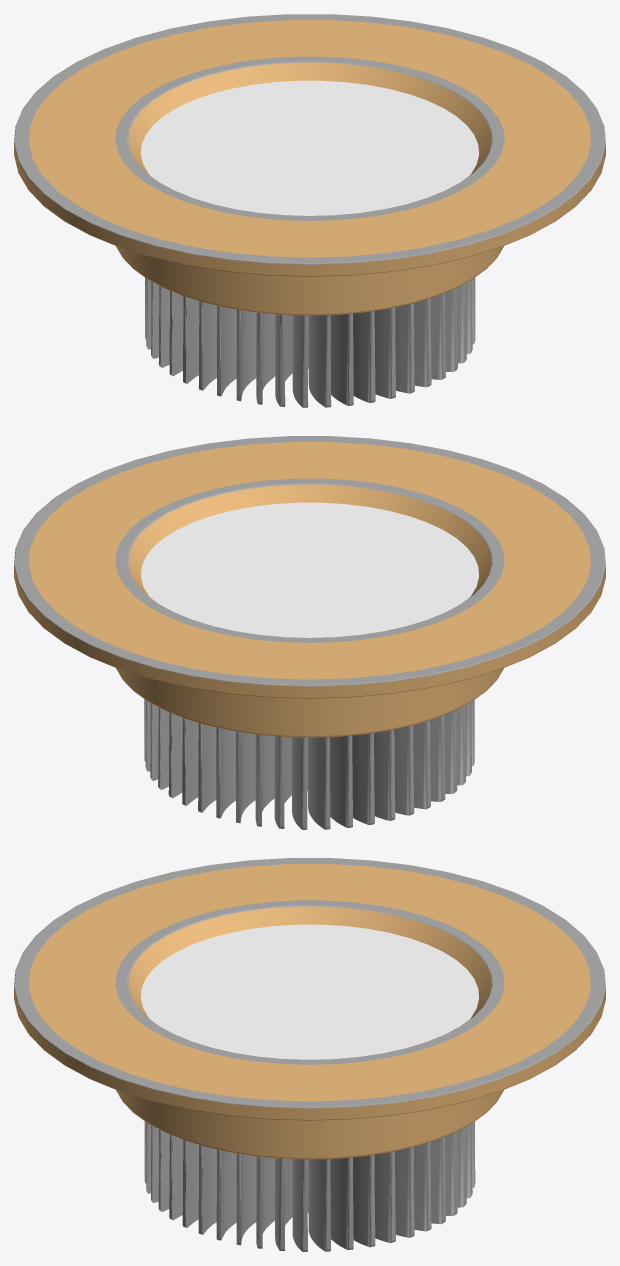
3 views of the same model, one above another, from view 1: azimuth 30°, elevation 25°; view 2: azimuth 150°, elevation 25°; view 3: azimuth 270°, elevation 25° (orthographic).
Parts seen in each view (by area): view 1: Cylinder02, Line05, Line06, Line04, Line01, Line47, Line11, Line10, Line09, Line46, Line12, Line07 (+8 smaller); view 2: Cylinder02, Line20, Line19, Line21, Line18, Line17, Line26, Line25, Line27, Line24, Line16, Line22 (+8 smaller); view 3: Cylinder02, Line35, Line36, Line34, Line33, Line32, Line40, Line41, Line42, Line31, Line37, Line39 (+8 smaller).
Boxes of the visible parts, bbox=[...] form: Cylinder02: bbox=[14, 14, 605, 315]; Line05: bbox=[330, 313, 353, 405]; Line06: bbox=[308, 315, 331, 407]; Line04: bbox=[353, 311, 375, 402]; Line01: bbox=[374, 307, 395, 398]; Line47: bbox=[395, 303, 414, 393]; Line11: bbox=[217, 306, 236, 396]; Line10: bbox=[236, 309, 256, 401]; Line09: bbox=[256, 312, 275, 404]; Line46: bbox=[414, 298, 431, 387]; Line12: bbox=[198, 301, 217, 390]; Line07: bbox=[292, 315, 308, 407]; Cylinder02: bbox=[14, 436, 605, 737]; Line20: bbox=[329, 735, 352, 827]; Line19: bbox=[352, 733, 374, 824]; Line21: bbox=[308, 737, 330, 829]; Line18: bbox=[374, 729, 395, 820]; Line17: bbox=[394, 725, 414, 815]; Line26: bbox=[216, 727, 236, 818]; Line25: bbox=[236, 731, 255, 823]; Line27: bbox=[198, 723, 216, 812]; Line24: bbox=[255, 734, 274, 826]; Line16: bbox=[413, 720, 430, 809]; Line22: bbox=[292, 737, 307, 829]; Cylinder02: bbox=[14, 858, 605, 1159]; Line35: bbox=[330, 1157, 353, 1249]; Line36: bbox=[308, 1159, 330, 1251]; Line34: bbox=[353, 1155, 375, 1247]; Line33: bbox=[374, 1151, 395, 1242]; Line32: bbox=[395, 1147, 414, 1237]; Line40: bbox=[236, 1153, 256, 1245]; Line41: bbox=[216, 1149, 236, 1240]; Line42: bbox=[198, 1145, 216, 1234]; Line31: bbox=[414, 1142, 431, 1231]; Line37: bbox=[292, 1159, 308, 1251]; Line39: bbox=[256, 1156, 274, 1248].
Size of the model in its own units: 120 by 44.77 by 120.
